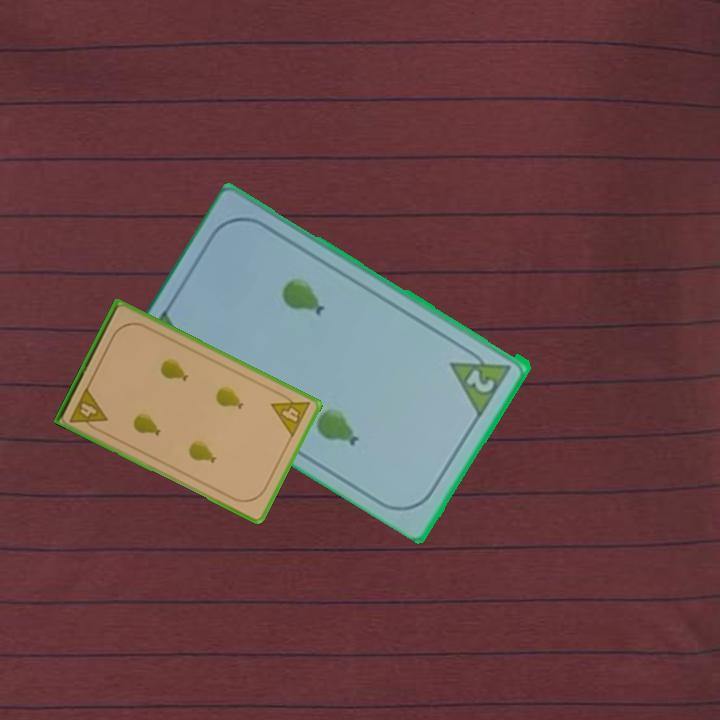2p: (447, 341, 515, 417)
4p: (268, 388, 313, 440), (66, 383, 110, 435)
